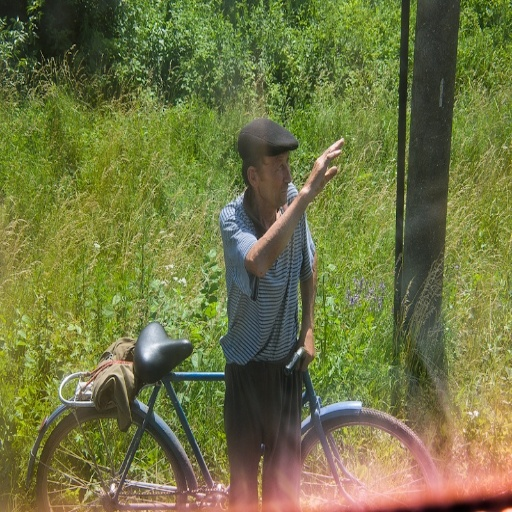hand: (304, 135, 350, 200), (295, 328, 316, 377)
